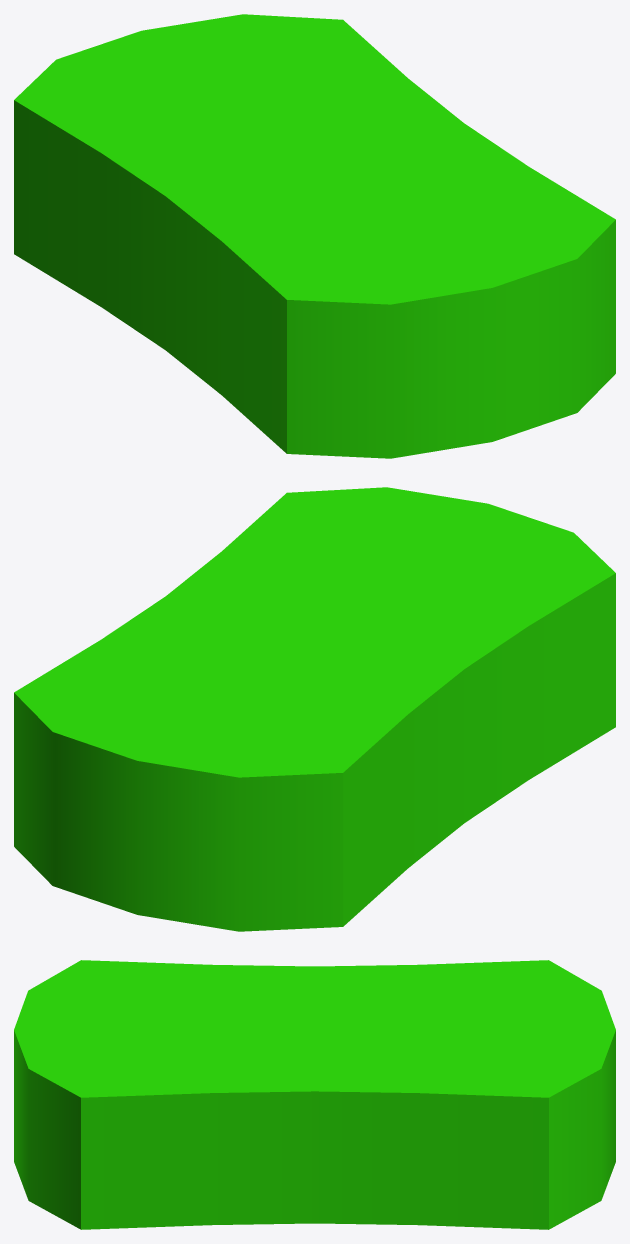
Rendered from Sponge_05.fbx.
3 views of the same model, one above another, from view 1: azimuth 30°, elevation 25°; view 2: azimuth 150°, elevation 25°; view 3: azimuth 270°, elevation 25° (orthographic). The views are drawn at different scales.
Visible parts, largest first — view 1: Sponge_05; view 2: Sponge_05; view 3: Sponge_05.
Part boxes in pixels (bbox=[...]): Sponge_05: bbox=[14, 14, 615, 458]; Sponge_05: bbox=[14, 487, 615, 931]; Sponge_05: bbox=[14, 960, 615, 1229].
Bounding box in the file's own units: 8.84 × 3.95 × 16.33.
